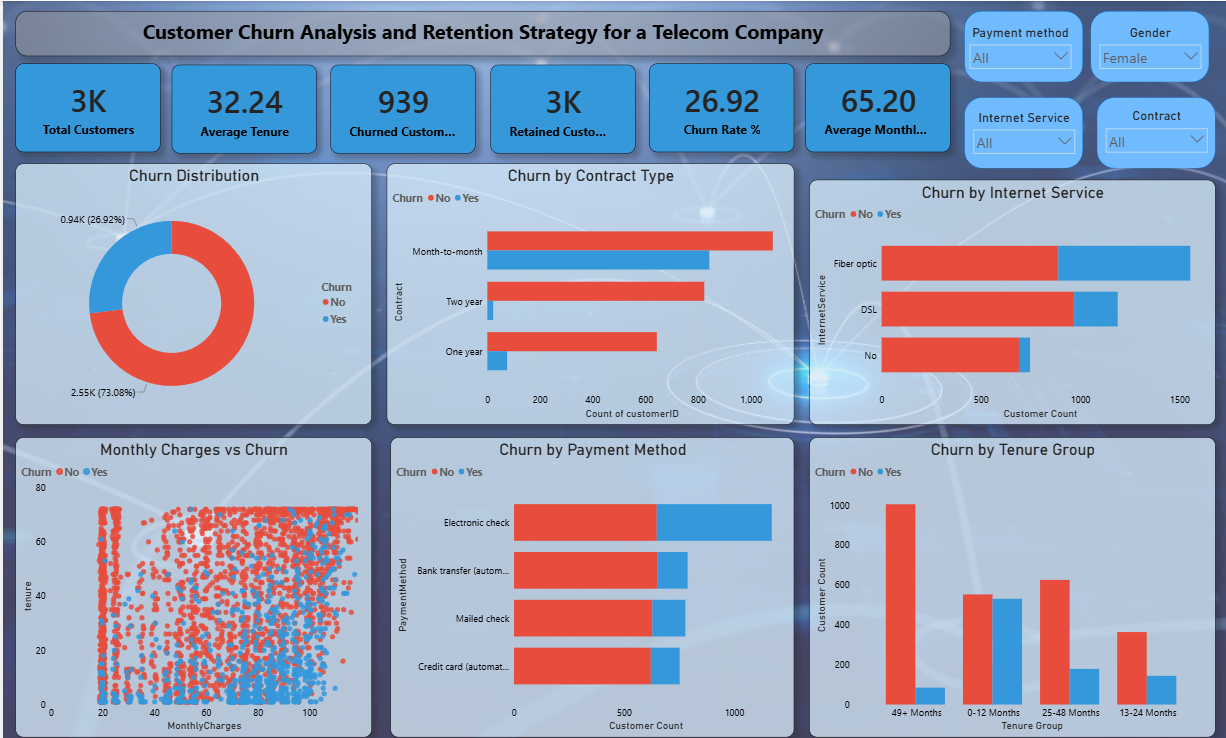

What the dashboard file says about the page in this screenshot:
{"tool":"powerbi","page":{"name":"Page 1","canvas":[2300,1400],"ordinal":0},"visuals":[{"type":"image","box":[0,0,2298.9,1400.5],"z":3000},{"type":"shape","box":[2052.6,180.6,222.9,133.7],"z":3125},{"type":"shape","box":[1804,180.6,222.9,133.7],"z":3250},{"type":"shape","box":[2040.9,18.8,222.9,133.7],"z":3500},{"type":"shape","box":[1804,18.8,222.9,133.7],"z":4000},{"type":"textbox","box":[23.5,0,1754.7,84.5],"z":5000},{"type":"cardVisual","fields":{"Data":["WA_Fn-UseC_-Telco-Customer-Churn.Total Customers"]},"box":[23.5,117.3,272.1,166.6],"z":6000},{"type":"cardVisual","fields":{"Data":["WA_Fn-UseC_-Telco-Customer-Churn.Churned Customers"]},"box":[614.6,119.6,272.1,166.6],"z":7000},{"type":"cardVisual","fields":{"Data":["WA_Fn-UseC_-Telco-Customer-Churn.Retained Customers"]},"box":[914.9,119.6,272.1,166.6],"z":8000},{"type":"cardVisual","fields":{"Data":["WA_Fn-UseC_-Telco-Customer-Churn.Churn Rate %"]},"box":[1212.8,117.3,272.1,166.6],"z":9000},{"type":"cardVisual","fields":{"Data":["WA_Fn-UseC_-Telco-Customer-Churn.Average Tenure"]},"box":[316.7,119.6,272.1,166.6],"z":10000},{"type":"donutChart","title":"Churn Distribution","fields":{"Category":["WA_Fn-UseC_-Telco-Customer-Churn.Churn"],"Y":["CountNonNull(WA_Fn-UseC_-Telco-Customer-Churn.customerID)"]},"box":[23.5,305,668.6,490.3],"z":11000},{"type":"clusteredBarChart","title":"Churn by Contract Type","fields":{"Series":["WA_Fn-UseC_-Telco-Customer-Churn.Churn"],"Category":["WA_Fn-UseC_-Telco-Customer-Churn.Contract"],"Y":["CountNonNull(WA_Fn-UseC_-Telco-Customer-Churn.customerID)"]},"box":[720.2,305,764.7,490.3],"z":12000},{"type":"clusteredColumnChart","title":"Churn by Tenure Group","fields":{"Category":["WA_Fn-UseC_-Telco-Customer-Churn.Tenure Group"],"Y":["WA_Fn-UseC_-Telco-Customer-Churn.Customer Count"],"Series":["WA_Fn-UseC_-Telco-Customer-Churn.Churn"]},"box":[1513.1,818.7,762.4,563],"z":13000},{"type":"scatterChart","title":"Monthly Charges vs Churn","fields":{"X":["WA_Fn-UseC_-Telco-Customer-Churn.MonthlyCharges"],"Y":["WA_Fn-UseC_-Telco-Customer-Churn.tenure"],"Series":["WA_Fn-UseC_-Telco-Customer-Churn.Churn"]},"box":[23.5,818.7,668.6,563],"z":14000},{"type":"barChart","title":"Churn by Internet Service","fields":{"Category":["WA_Fn-UseC_-Telco-Customer-Churn.InternetService"],"Y":["WA_Fn-UseC_-Telco-Customer-Churn.Customer Count"],"Series":["WA_Fn-UseC_-Telco-Customer-Churn.Churn"]},"box":[1513.1,335.5,762.4,459.8],"z":15000},{"type":"barChart","title":"Churn by Payment Method","fields":{"Category":["WA_Fn-UseC_-Telco-Customer-Churn.PaymentMethod"],"Y":["WA_Fn-UseC_-Telco-Customer-Churn.Customer Count"],"Series":["WA_Fn-UseC_-Telco-Customer-Churn.Churn"]},"box":[727.2,818.7,757.7,563],"z":16000},{"type":"cardVisual","fields":{"Data":["WA_Fn-UseC_-Telco-Customer-Churn.Average Monthly Charges"]},"box":[1506,117.3,272.1,166.6],"z":17000},{"type":"slicer","title":"Gender","fields":{"Values":["WA_Fn-UseC_-Telco-Customer-Churn.gender"]},"box":[2047.9,44.6,211.1,107.9],"z":18000},{"type":"slicer","title":"Contract","fields":{"Values":["WA_Fn-UseC_-Telco-Customer-Churn.Contract"]},"box":[2059.7,201.7,211.1,133.7],"z":19000},{"type":"slicer","title":"Internet Service","fields":{"Values":["WA_Fn-UseC_-Telco-Customer-Churn.InternetService"]},"box":[1811,204.1,211.1,114.9],"z":20000},{"type":"slicer","title":"Payment method","fields":{"Values":["WA_Fn-UseC_-Telco-Customer-Churn.PaymentMethod"]},"box":[1804,44.6,211.1,117.3],"z":21000}]}

Visuals, with their boxes in screenshot pixels (x1, y1, x2, y2), scaled from the page's 2300x1400 canvas onto the 1226x738 screenshot:
image: {"left": 0, "top": 0, "right": 1225, "bottom": 737}
shape: {"left": 1094, "top": 95, "right": 1213, "bottom": 166}
shape: {"left": 962, "top": 95, "right": 1080, "bottom": 166}
shape: {"left": 1088, "top": 10, "right": 1207, "bottom": 80}
shape: {"left": 962, "top": 10, "right": 1080, "bottom": 80}
textbox: {"left": 13, "top": 0, "right": 948, "bottom": 45}
cardVisual - WA_Fn-UseC_-Telco-Customer-Churn.Total Customers: {"left": 13, "top": 62, "right": 158, "bottom": 150}
cardVisual - WA_Fn-UseC_-Telco-Customer-Churn.Churned Customers: {"left": 328, "top": 63, "right": 473, "bottom": 151}
cardVisual - WA_Fn-UseC_-Telco-Customer-Churn.Retained Customers: {"left": 488, "top": 63, "right": 633, "bottom": 151}
cardVisual - WA_Fn-UseC_-Telco-Customer-Churn.Churn Rate %: {"left": 646, "top": 62, "right": 792, "bottom": 150}
cardVisual - WA_Fn-UseC_-Telco-Customer-Churn.Average Tenure: {"left": 169, "top": 63, "right": 314, "bottom": 151}
"Churn Distribution" donutChart: {"left": 13, "top": 161, "right": 369, "bottom": 419}
"Churn by Contract Type" clusteredBarChart: {"left": 384, "top": 161, "right": 792, "bottom": 419}
"Churn by Tenure Group" clusteredColumnChart: {"left": 807, "top": 432, "right": 1213, "bottom": 728}
"Monthly Charges vs Churn" scatterChart: {"left": 13, "top": 432, "right": 369, "bottom": 728}
"Churn by Internet Service" barChart: {"left": 807, "top": 177, "right": 1213, "bottom": 419}
"Churn by Payment Method" barChart: {"left": 388, "top": 432, "right": 792, "bottom": 728}
cardVisual - WA_Fn-UseC_-Telco-Customer-Churn.Average Monthly Charges: {"left": 803, "top": 62, "right": 948, "bottom": 150}
"Gender" slicer: {"left": 1092, "top": 24, "right": 1204, "bottom": 80}
"Contract" slicer: {"left": 1098, "top": 106, "right": 1210, "bottom": 177}
"Internet Service" slicer: {"left": 965, "top": 108, "right": 1078, "bottom": 168}
"Payment method" slicer: {"left": 962, "top": 24, "right": 1074, "bottom": 85}
